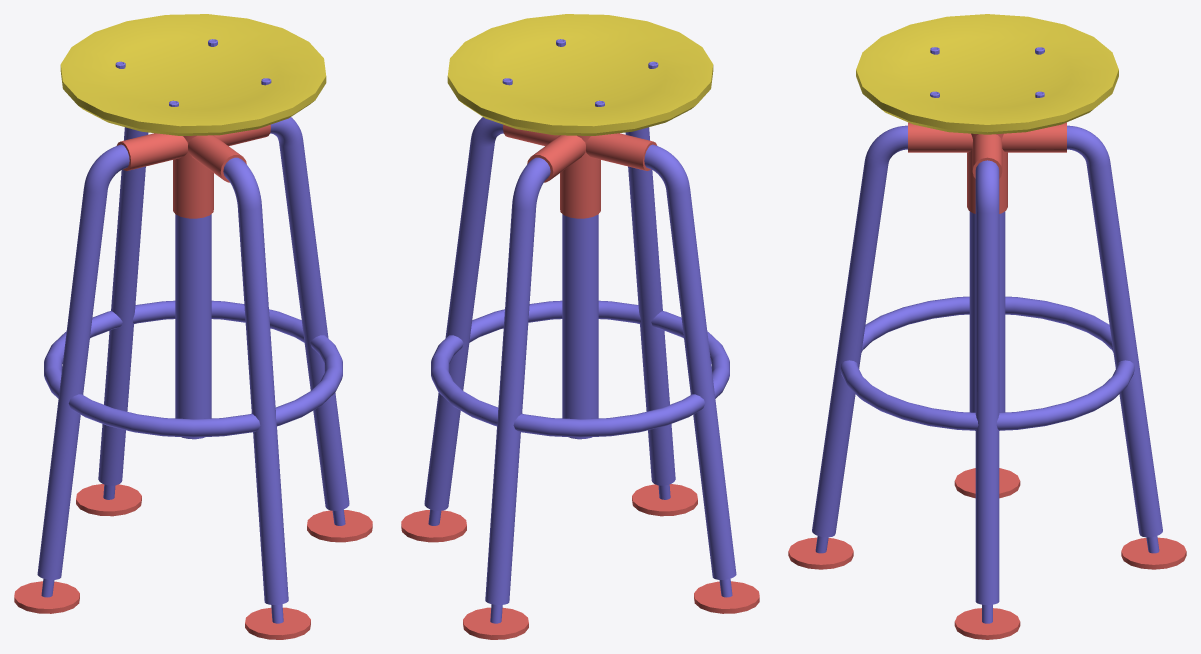
The model's file is Chair.fbx.
The picture shows the model from 3 angles, left to right: view 1: azimuth 30°, elevation 25°; view 2: azimuth 150°, elevation 25°; view 3: azimuth 270°, elevation 25°; orthographic projection.
Parts seen in each view (by area): view 1: Chair; view 2: Chair; view 3: Chair.
Boxes of the visible parts, left/top/right/bottom form: Chair: left=14, top=14, right=372, bottom=639; Chair: left=401, top=14, right=759, bottom=639; Chair: left=788, top=14, right=1186, bottom=639.
Bounding box in the file's own units: 0.555 × 0.748 × 0.555.
